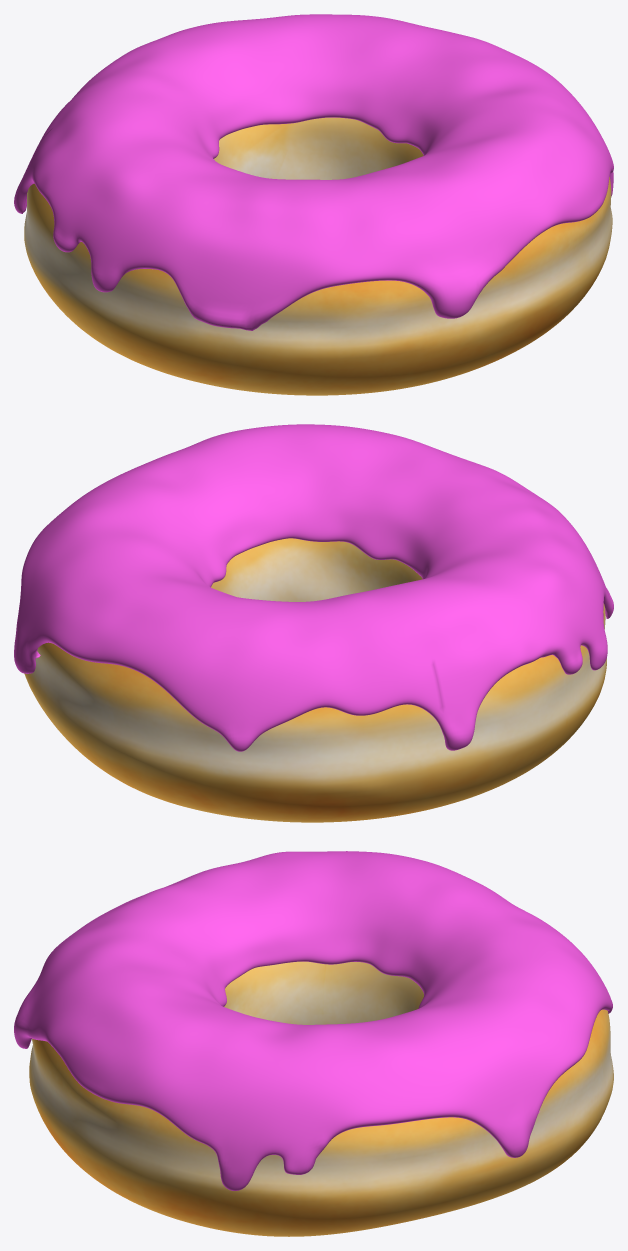
File: ponchito.glb
3 views of the same model, one above another, from view 1: azimuth 30°, elevation 25°; view 2: azimuth 150°, elevation 25°; view 3: azimuth 270°, elevation 25° (orthographic).
Parts seen in each view (by area): view 1: icing, donut; view 2: icing, donut; view 3: icing, donut.
Boxes of the visible parts, bbox=[...] form: icing: bbox=[14, 14, 613, 330]; donut: bbox=[24, 117, 612, 395]; icing: bbox=[14, 424, 613, 751]; donut: bbox=[24, 538, 606, 822]; icing: bbox=[14, 851, 612, 1190]; donut: bbox=[29, 961, 613, 1236].
Bounding box in the file's own units: 0.1532 × 0.0578 × 0.1521.
Materials: 2 (1 with a texture image).
